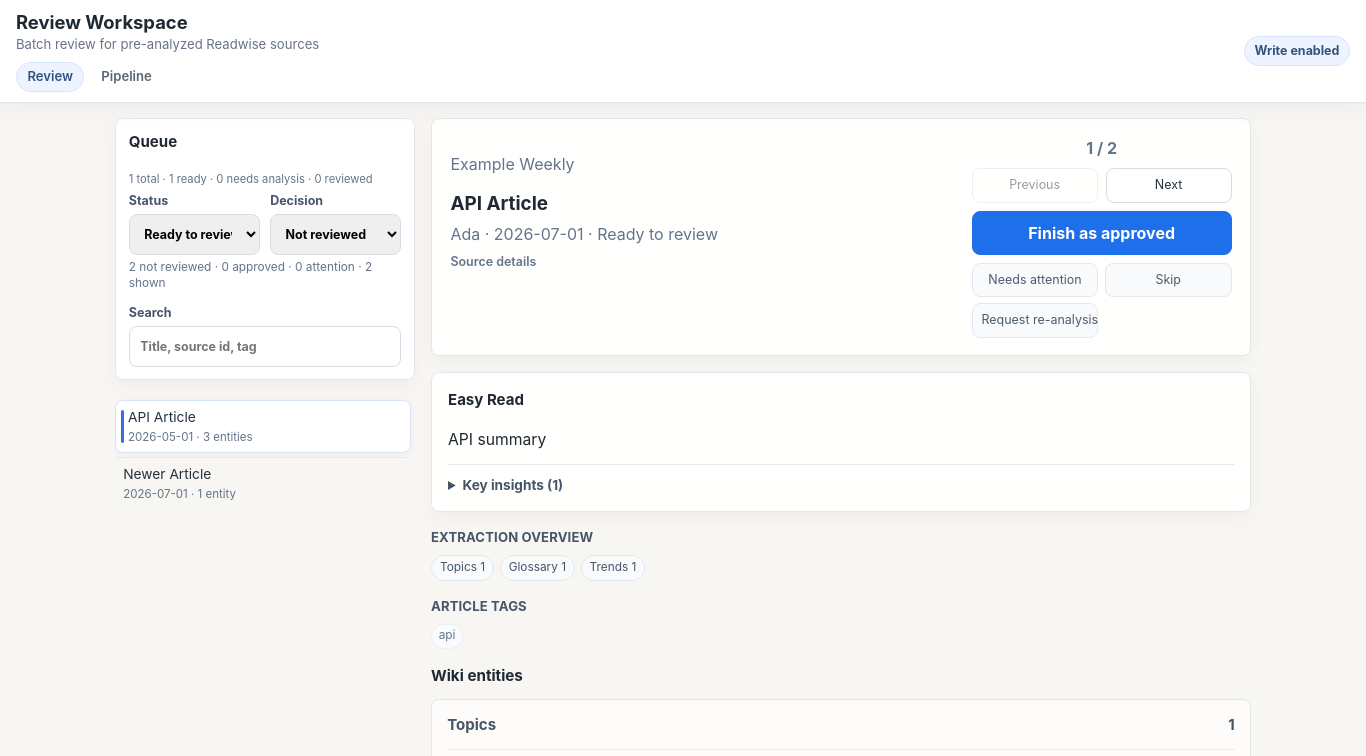
App › shows decision write errors
This screenshot has width=1366, height=756.
Expected: the text "API summary" is shown, x1=448 y1=430 x2=546 y2=449
Click the button "Needs attention": (1035, 280) x1=972 y1=263 x2=1098 y2=297
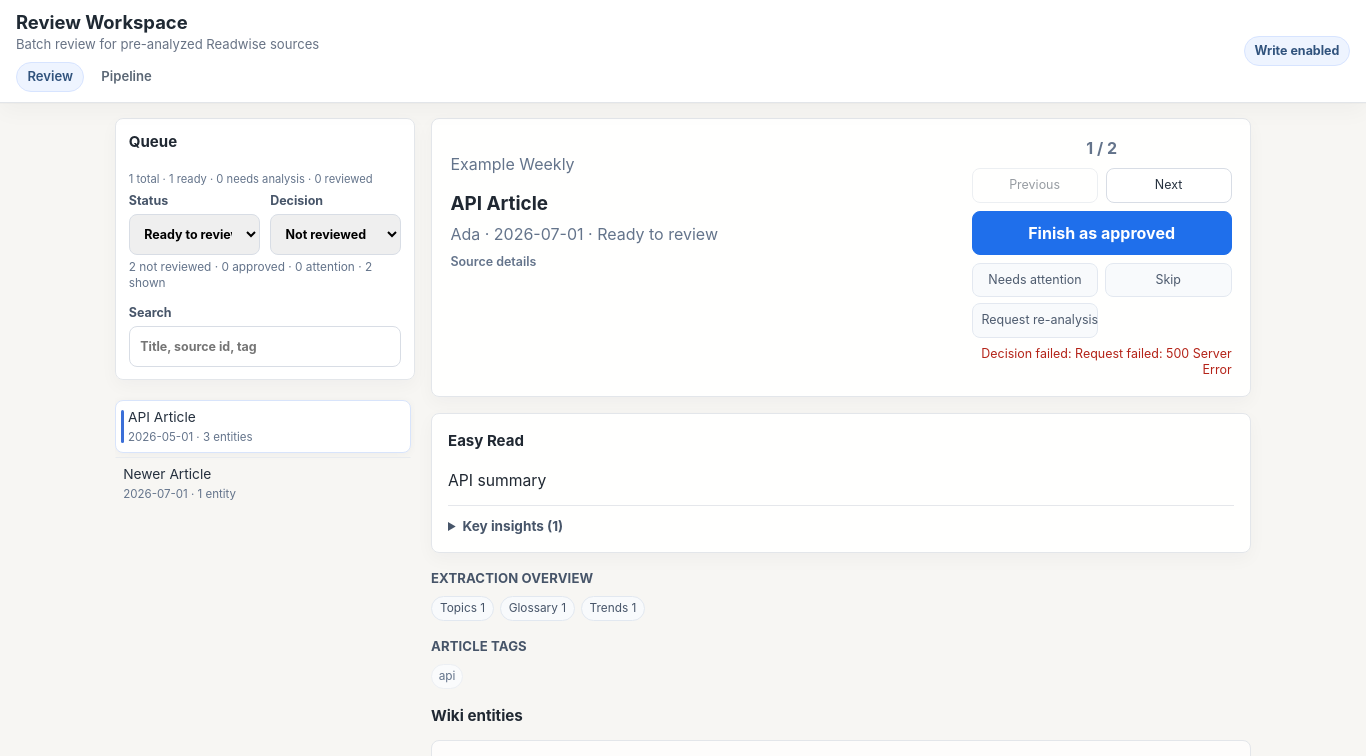
Expected: the text "Decision failed: Request failed: 500 Server Error" is shown, x1=972 y1=346 x2=1232 y2=378
